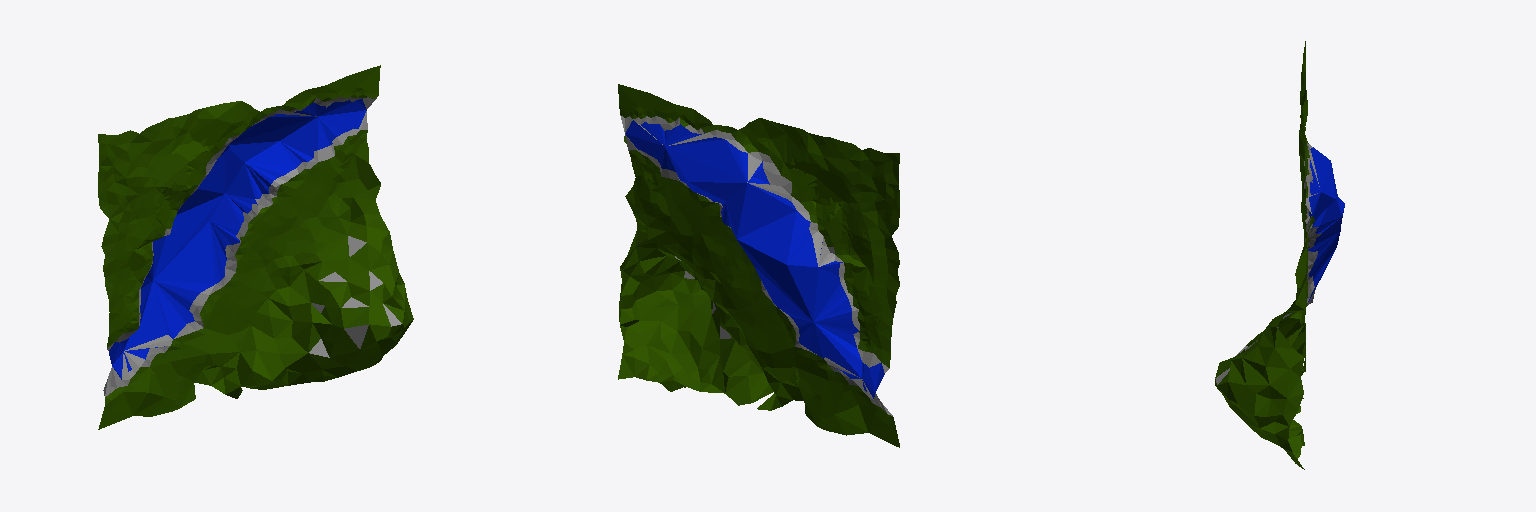
File: Ground.obj
3 renders of one model, left to right at view 1: azimuth 30°, elevation 25°; view 2: azimuth 150°, elevation 25°; view 3: azimuth 270°, elevation 25°, orthographic.
Visible parts, largest first — view 1: Ground; view 2: Ground; view 3: Ground.
Part boxes in pixels (x1,y1,x2,y2): Ground: (98, 65, 413, 429); Ground: (618, 84, 899, 447); Ground: (1215, 41, 1344, 469).
Size of the model in its own units: 9.65 by 9.39 by 3.75.